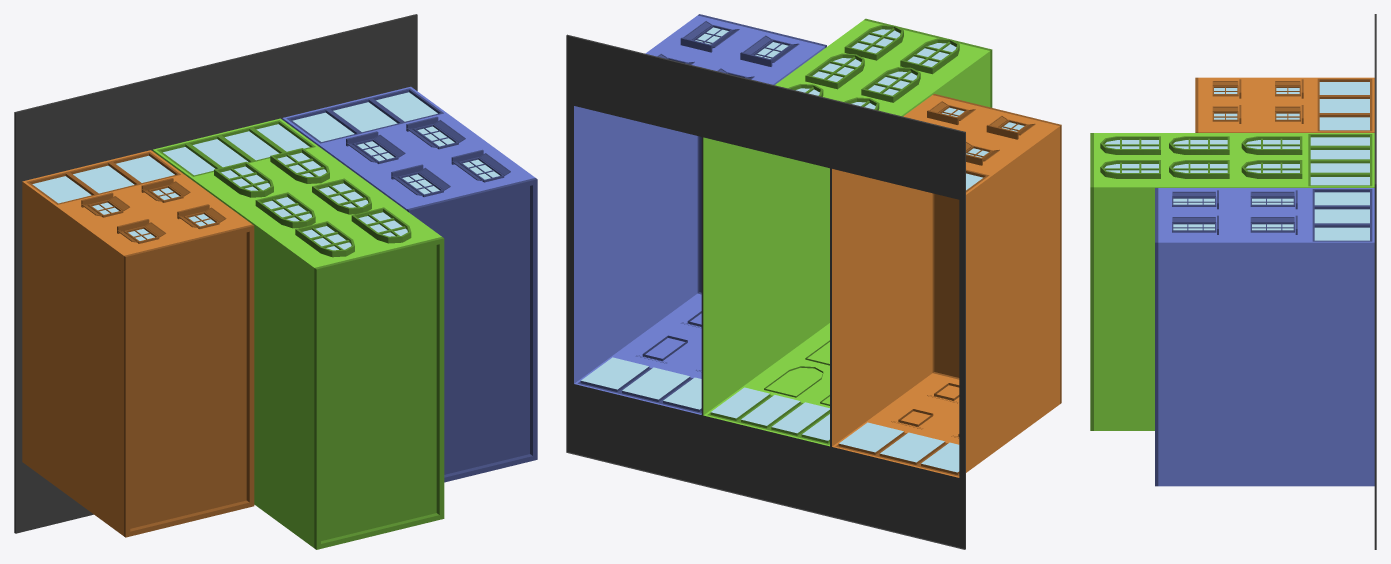
File: Office_02.fbx
The picture shows the model from 3 angles, left to right: view 1: azimuth 30°, elevation 25°; view 2: azimuth 150°, elevation 25°; view 3: azimuth 270°, elevation 25°; orthographic projection. The views are drawn at different scales.
Parts seen in each view (by area): view 1: Office_02; view 2: Office_02; view 3: Office_02.
Boxes of the visible parts, <box> form: Office_02: <box>14,14,537,549</box>; Office_02: <box>566,14,1061,549</box>; Office_02: <box>1090,14,1376,549</box>.
Size of the model in its own units: 200 by 200 by 142.
